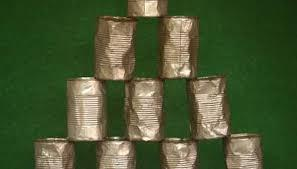Tin: (12, 2, 297, 169)
